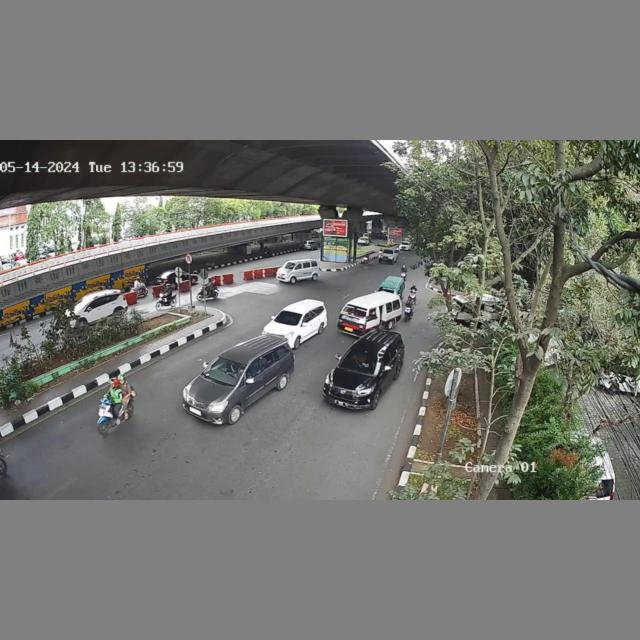windshield: (203, 356, 246, 386), (341, 345, 381, 376), (273, 309, 301, 325), (341, 303, 368, 318)
